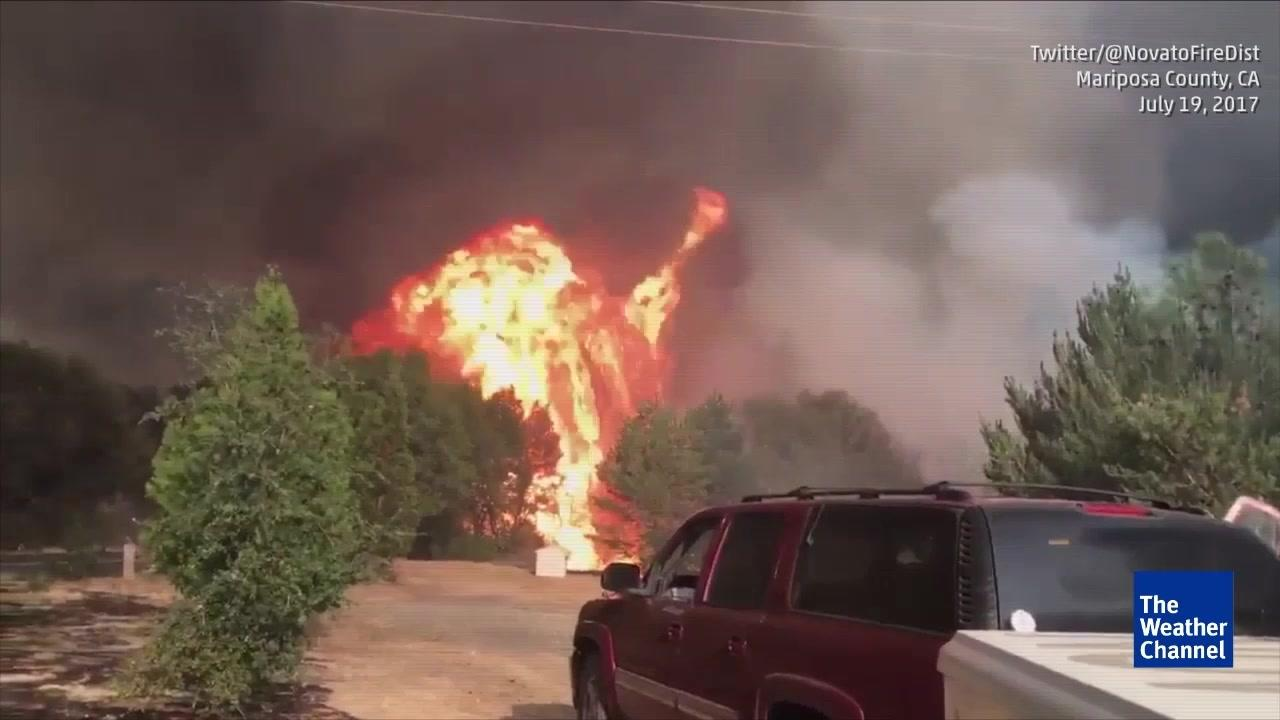fire: (331, 154, 698, 575)
